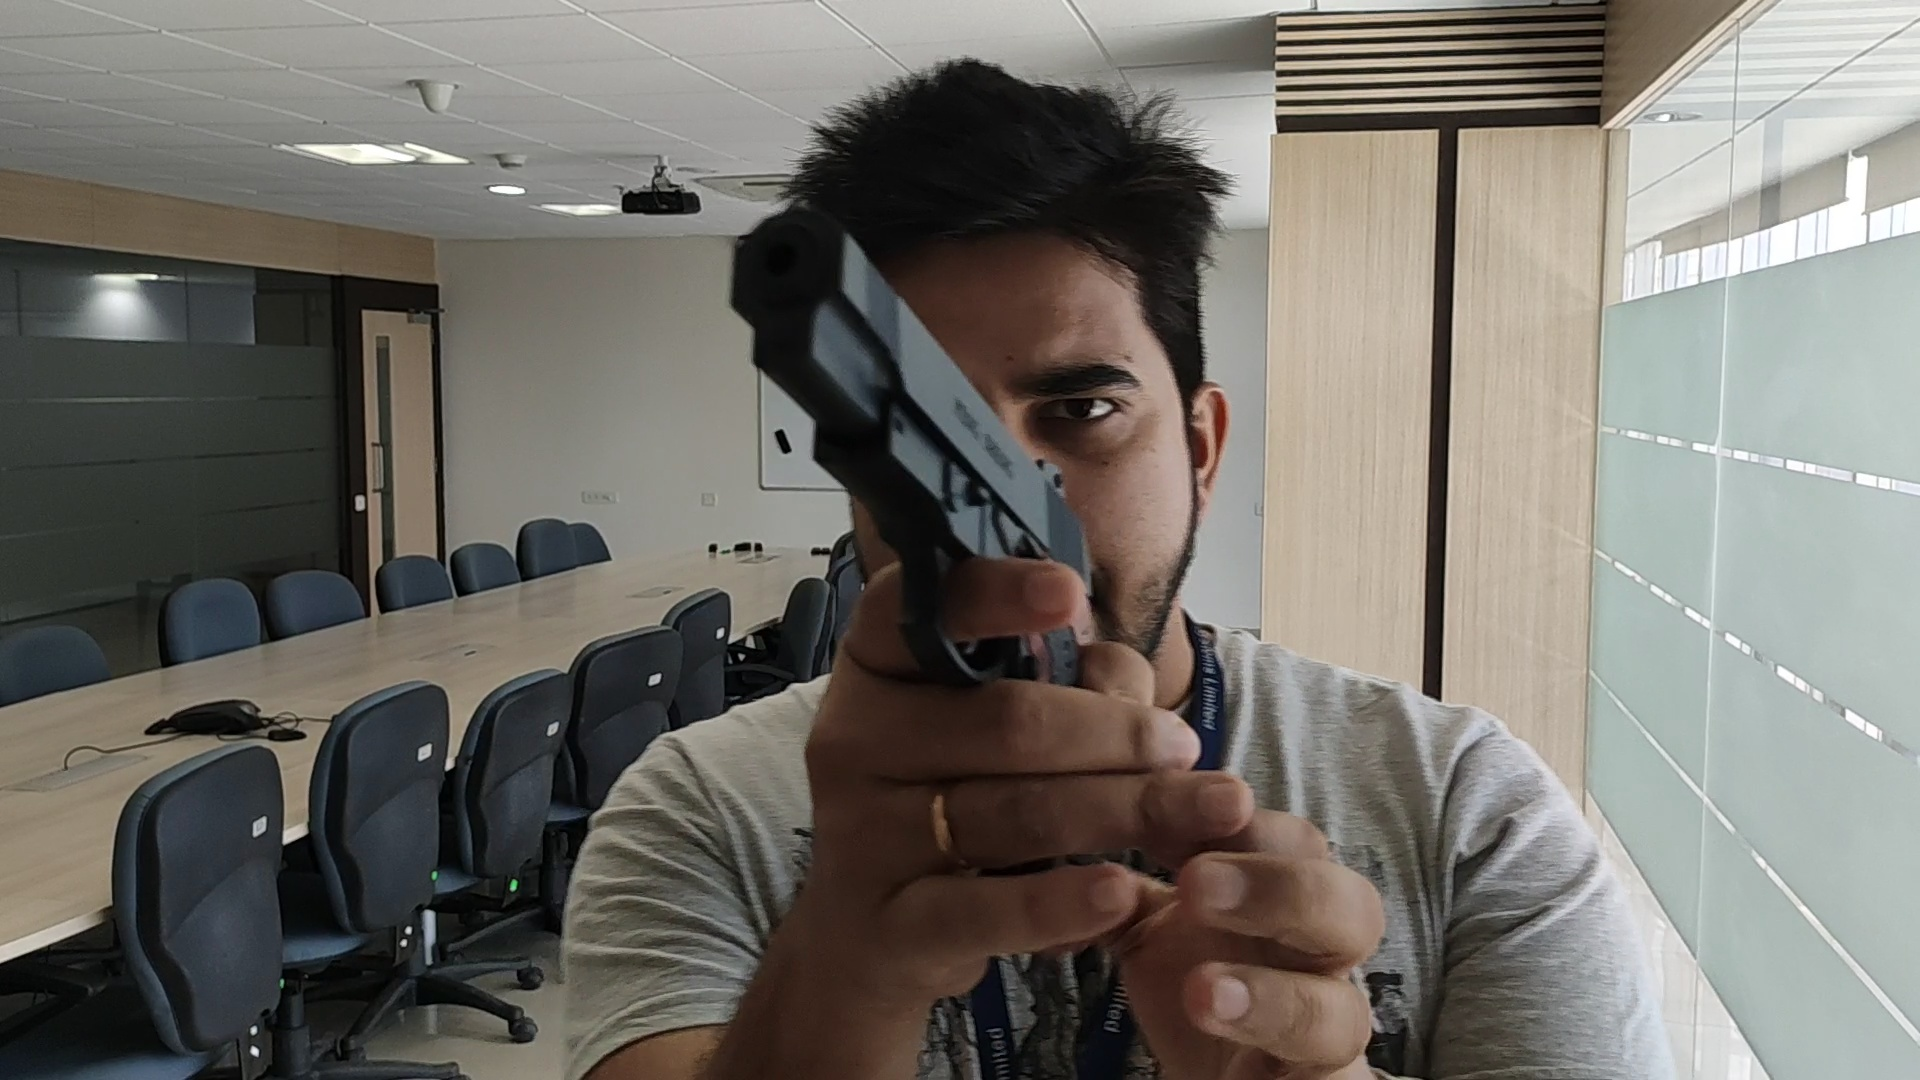gun: (731, 212, 1038, 553)
